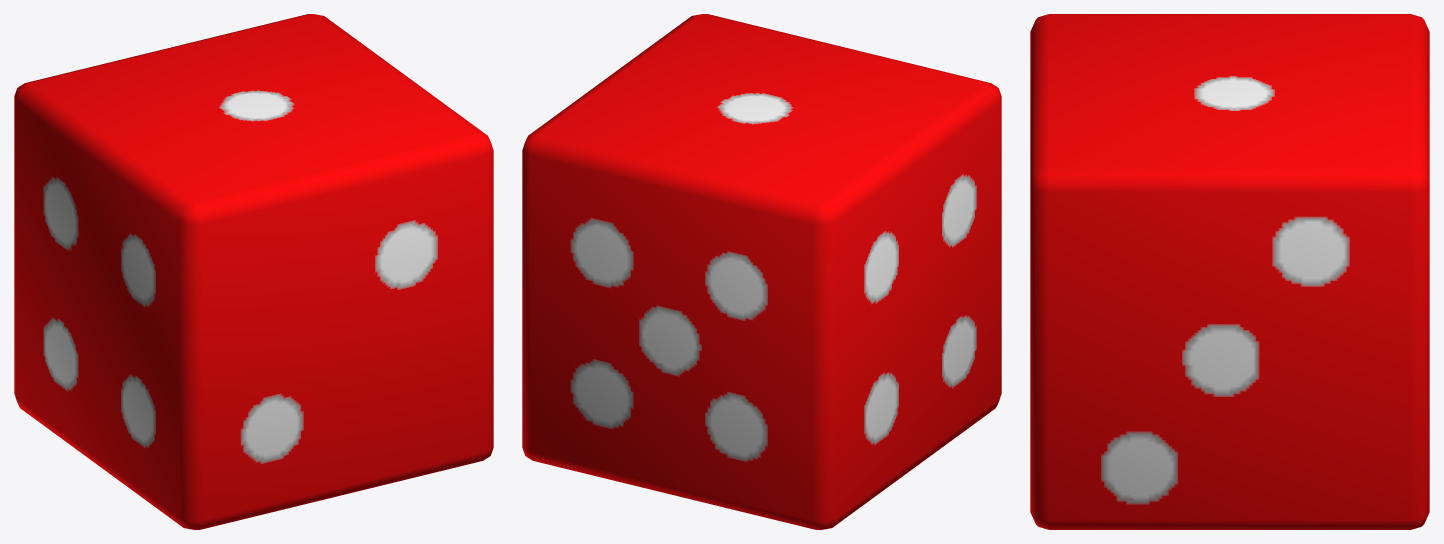
3 views of the same model, side by side, from view 1: azimuth 30°, elevation 25°; view 2: azimuth 150°, elevation 25°; view 3: azimuth 270°, elevation 25° (orthographic). The views are drawn at different scales.
Visible parts, largest first — view 1: 6Red_6Red_0.001; view 2: 6Red_6Red_0.001; view 3: 6Red_6Red_0.001.
Boxes of the visible parts, box(x1,y1,x2,y2) form: 6Red_6Red_0.001: box(14, 14, 493, 529); 6Red_6Red_0.001: box(522, 14, 1001, 529); 6Red_6Red_0.001: box(1030, 14, 1429, 529).
Bounding box in the file's own units: 1.17 × 1.17 × 1.17.
1 material, 1 textured.
